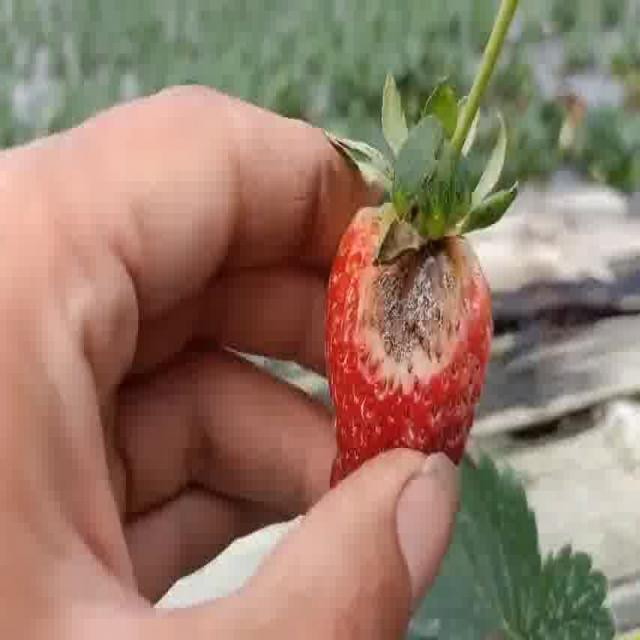Mancha negra Antracnosis: (328, 164, 496, 493)
